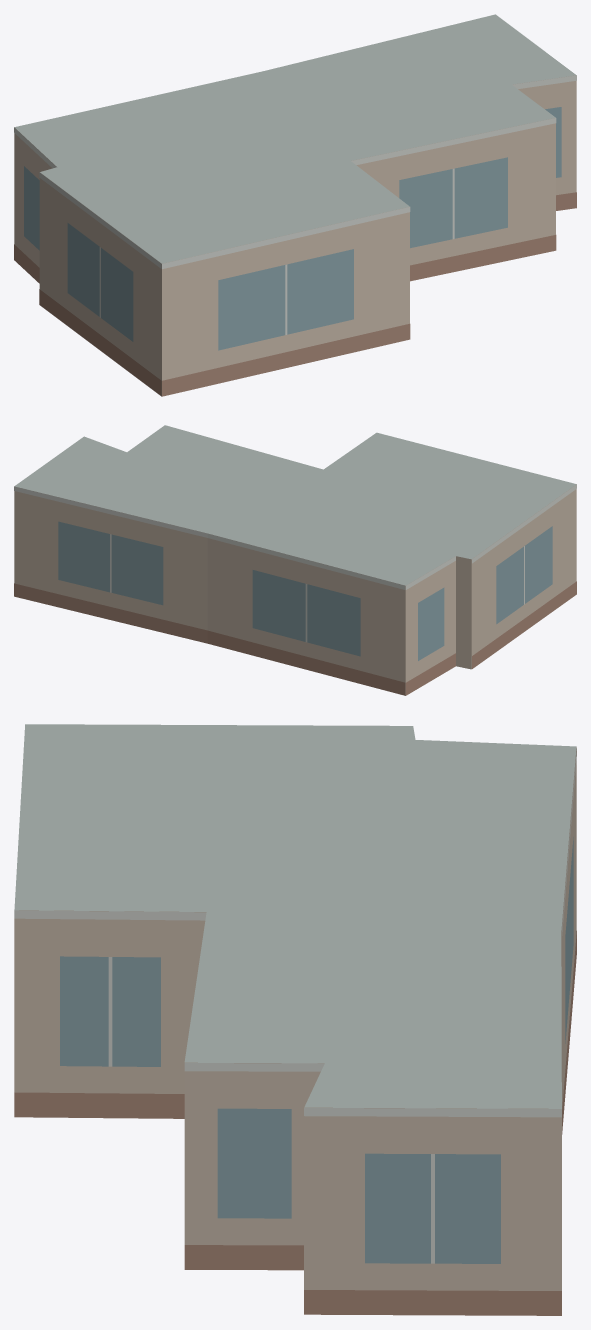
File: survey-upis-32729807.glb
3 views of the same model, one above another, from view 1: azimuth 30°, elevation 25°; view 2: azimuth 150°, elevation 25°; view 3: azimuth 270°, elevation 25° (orthographic). The views are drawn at different scales.
Visible parts, largest first — view 1: survey-upis-32729807.tmp; view 2: survey-upis-32729807.tmp; view 3: survey-upis-32729807.tmp.
Part boxes in pixels (x1,y1,x2,y2): survey-upis-32729807.tmp: (14,14,576,396); survey-upis-32729807.tmp: (14,425,576,695); survey-upis-32729807.tmp: (14,724,576,1315).
Size of the model in its own units: 12.17 by 3.05 by 7.52.
